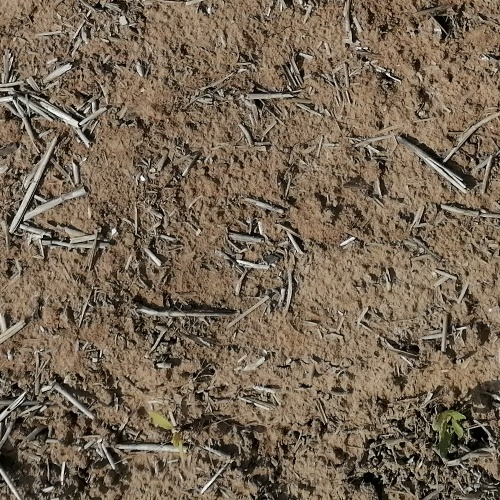beet: (149, 411, 184, 458), (432, 405, 466, 452)
